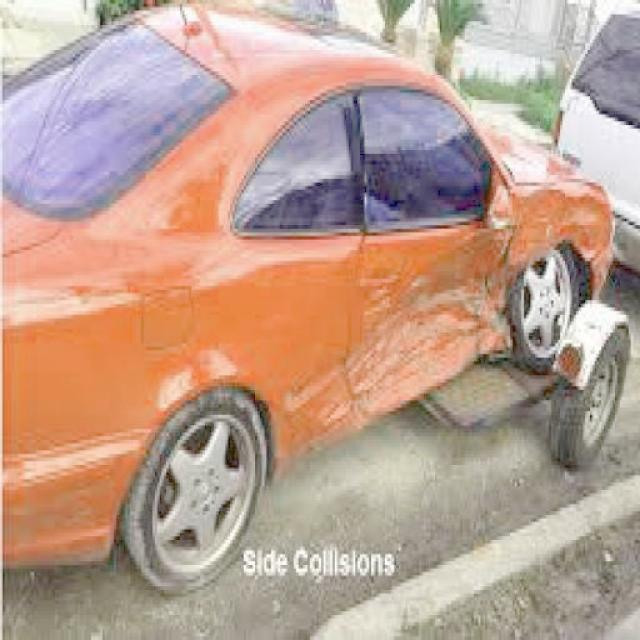car damage: (276, 181, 619, 451)
